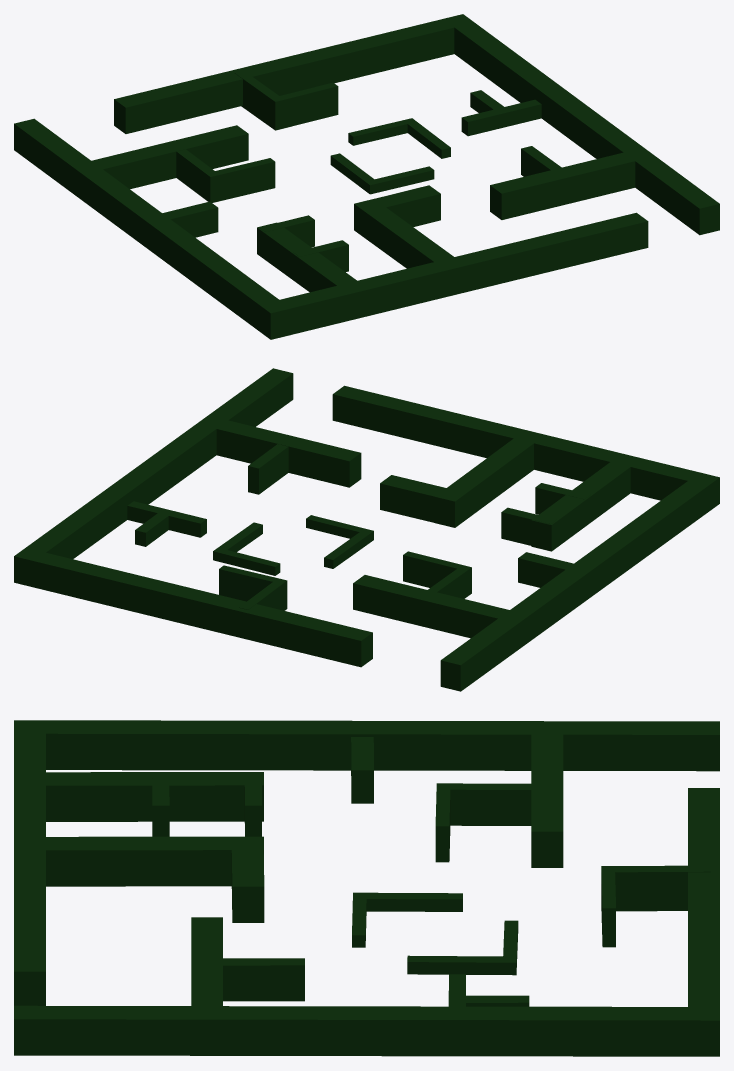
File: mazeWalls.FBX
3 views of the same model, one above another, from view 1: azimuth 30°, elevation 25°; view 2: azimuth 150°, elevation 25°; view 3: azimuth 270°, elevation 25° (orthographic). The views are drawn at different scales.
Parts seen in each view (by area): view 1: Box002, Box004, Box003, Box005, Box006, Maze Walls, Box001, Box008, Box007, Box022, Box017, Box018 (+6 smaller); view 2: Box003, Box004, Box002, Box005, Box001, Box006, Box008, Box007, Maze Walls, Box022, Box017, Box018 (+6 smaller); view 3: Box005, Box004, Box008, Box007, Box002, Maze Walls, Box003, Box022, Box001, Box010, Box006, Box017 (+6 smaller).
Boxes of the visible parts, box(x1,y1,x2,y2) form: Box002: box(261, 212, 648, 334); Box004: box(14, 118, 290, 339); Box003: box(114, 15, 469, 133); Box005: box(444, 14, 719, 235); Box006: box(490, 152, 648, 219); Maze Walls: box(235, 70, 450, 158); Box001: box(91, 125, 248, 189); Box008: box(354, 199, 458, 268); Box007: box(257, 222, 359, 292); Box022: box(176, 149, 275, 202); Box017: box(359, 185, 440, 226); Box018: box(330, 153, 434, 194); Box003: box(18, 552, 372, 667); Box004: box(440, 473, 719, 691); Box002: box(332, 385, 717, 500); Box005: box(14, 368, 293, 583); Box001: box(353, 575, 514, 638); Box006: box(200, 416, 361, 487); Box008: box(435, 433, 539, 527); Box007: box(531, 457, 637, 551); Maze Walls: box(213, 522, 287, 610); Box022: box(403, 551, 471, 598); Box017: box(380, 475, 459, 522); Box018: box(306, 515, 373, 568); Box005: box(14, 1005, 719, 1056); Box004: box(14, 720, 719, 771); Box008: box(26, 836, 263, 886); Box007: box(26, 772, 263, 821); Box002: box(14, 720, 45, 1005); Maze Walls: box(407, 865, 710, 975); Box003: box(688, 788, 719, 1017); Box022: box(435, 783, 531, 862); Box001: box(531, 731, 563, 867); Box010: box(223, 958, 304, 1001); Box006: box(191, 917, 222, 1017); Box017: box(231, 837, 264, 922).
Bounding box in the file's own units: 143 × 8.67 × 142.
